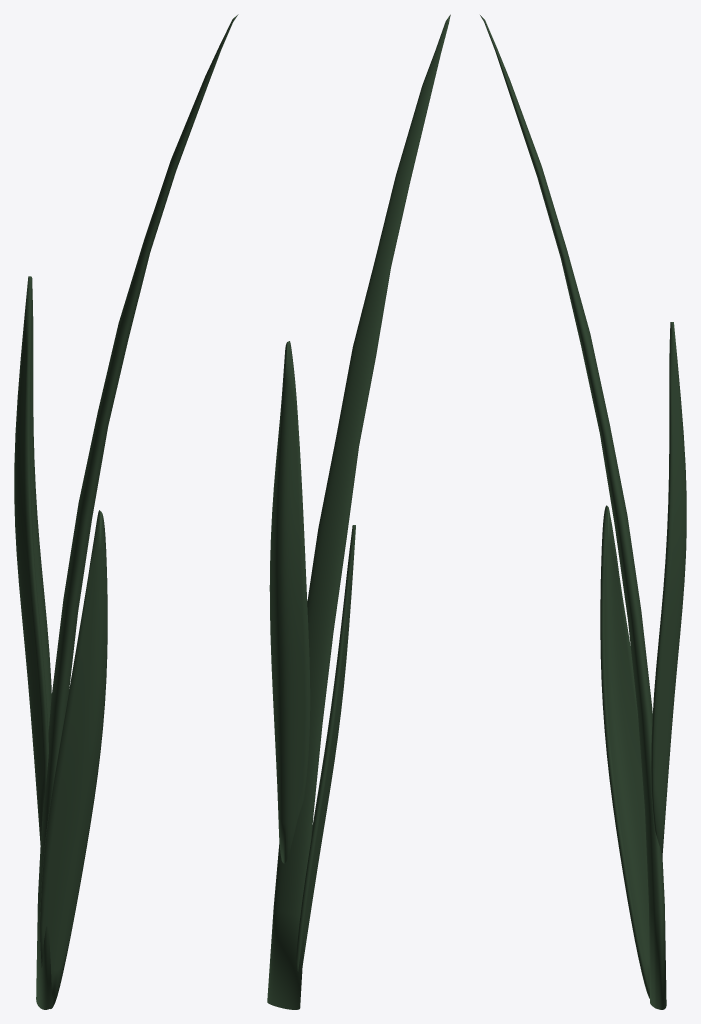
The model's file is SM_Iris_Grass.fbx.
3 renders of one model, left to right at view 1: azimuth 90°, elevation 25°; view 2: azimuth 150°, elevation 25°; view 3: azimuth 270°, elevation 25°, orthographic. The views are drawn at different scales.
Visible parts, largest first — view 1: SM_Flower_Iris_Grass; view 2: SM_Flower_Iris_Grass; view 3: SM_Flower_Iris_Grass.
Part boxes in pixels (x1,y1,x2,y2): SM_Flower_Iris_Grass: [14, 14, 238, 1009]; SM_Flower_Iris_Grass: [267, 14, 450, 1009]; SM_Flower_Iris_Grass: [480, 15, 686, 1009].
Bounding box in the file's own units: 16.28 × 158 × 31.09.
